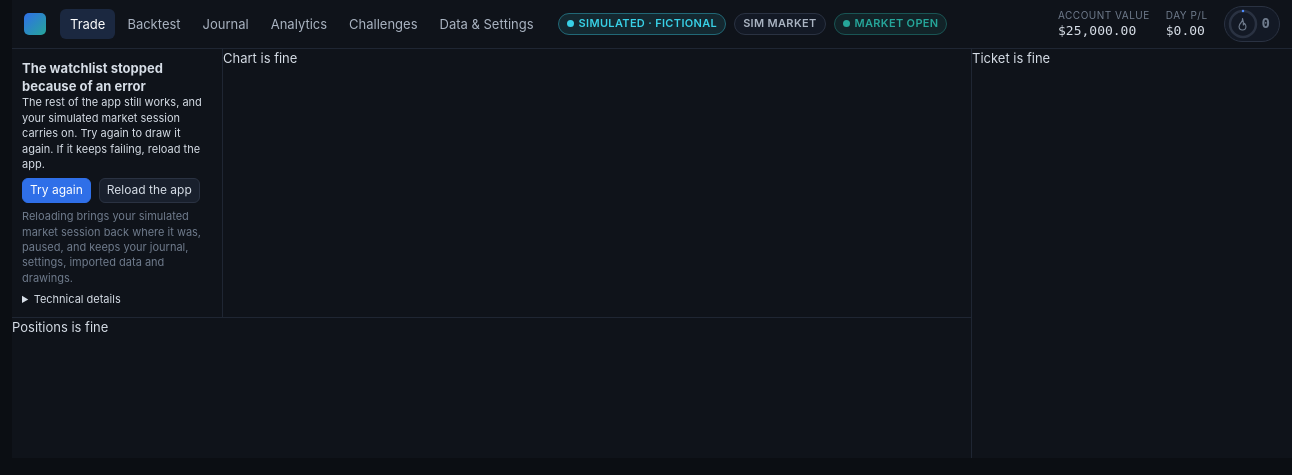
Test case: error boundaries › say a reload brings the running session back, and keep the session when a panel fails
The width and height of the screenshot is (1292, 475).
Expected: the element with class "area-watch" shows "The watchlist stopped because of an error", [22, 60, 163, 94]
Expected: the element with class "area-watch" shows "The rest of the app still works, and your simulated market session carries on.", [22, 95, 202, 171]
Click the button "Try again" at (56, 191), box [22, 178, 91, 203]
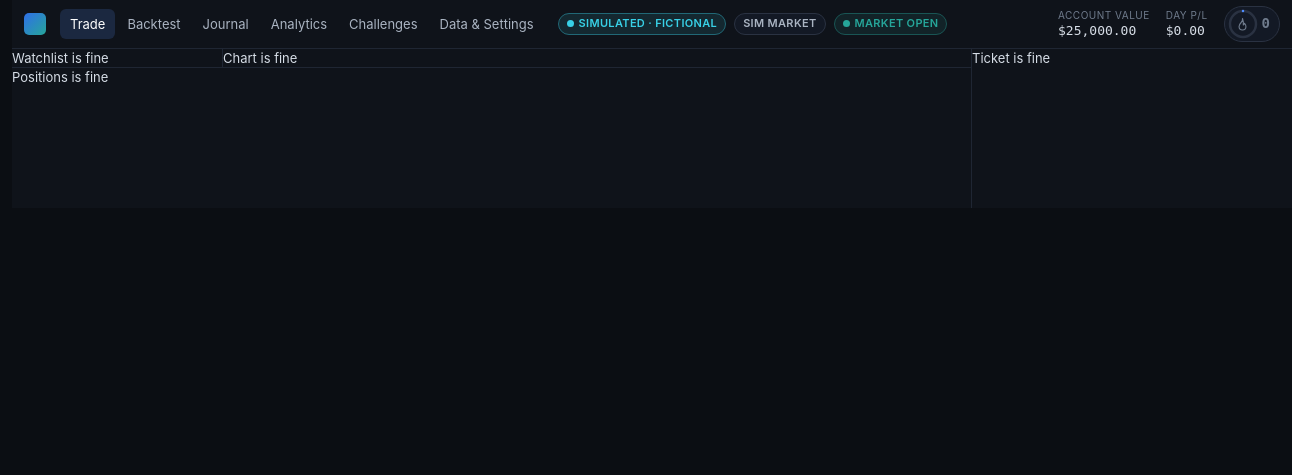
Expected: the text "Watchlist is fine" is shown, [12, 49, 222, 67]
